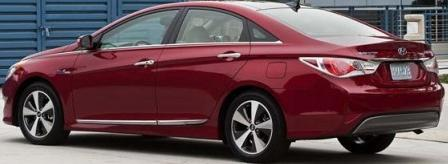back_view: (300, 40, 445, 138)
backlight: (298, 51, 381, 83)
side_glass: (77, 6, 285, 58)
